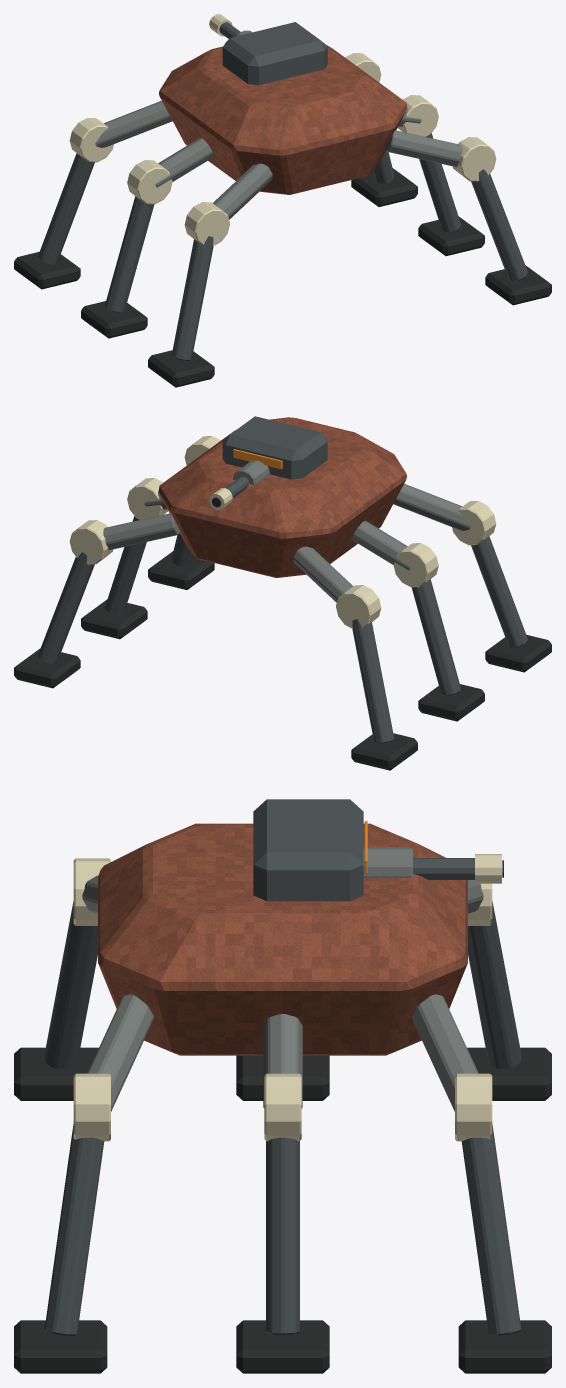
3 views of the same model, one above another, from view 1: azimuth 30°, elevation 25°; view 2: azimuth 150°, elevation 25°; view 3: azimuth 270°, elevation 25° (orthographic). The views are drawn at different scales.
Parts seen in each view (by area): view 1: ST2-E04_Mesh, Knee_Mesh, Knee.001_Mesh, Knee.003_Mesh, Knee.002_Mesh, TurretYaw_Mesh, Knee.004_Mesh, Knee.005_Mesh, Hip_R0_Mesh, Hip_L2_Mesh, Hip_L0_Mesh, Hip_L1_Mesh (+1 smaller); view 2: ST2-E04_Mesh, Knee.002_Mesh, Knee.001_Mesh, Knee.005_Mesh, Knee_Mesh, TurretYaw_Mesh, Knee.004_Mesh, Knee.003_Mesh, Hip_R2_Mesh, Hip_L0_Mesh, Hip_L2_Mesh, Hip_L1_Mesh (+1 smaller); view 3: ST2-E04_Mesh, Knee.003_Mesh, Knee.005_Mesh, Knee.004_Mesh, TurretYaw_Mesh, Knee_Mesh, Knee.002_Mesh, BarrelRecoil_Mesh, Hip_R0_Mesh, Hip_R2_Mesh, Knee.001_Mesh, Hip_R1_Mesh.
Boxes of the visible parts, x1,y1,x2,y2 form: ST2-E04_Mesh: (159, 45, 406, 194); Knee_Mesh: (148, 202, 229, 387); Knee.001_Mesh: (81, 160, 172, 338); Knee.003_Mesh: (452, 137, 551, 305); Knee.002_Mesh: (14, 118, 113, 289); TurretYaw_Mesh: (222, 22, 327, 85); Knee.004_Mesh: (397, 95, 484, 256); Knee.005_Mesh: (345, 53, 417, 206); Hip_R0_Mesh: (385, 130, 462, 166); Hip_L2_Mesh: (95, 100, 172, 147); Hip_L0_Mesh: (212, 163, 272, 219); Hip_L1_Mesh: (155, 138, 213, 187); ST2-E04_Mesh: (159, 417, 406, 577); Knee.002_Mesh: (336, 585, 417, 770); Knee.001_Mesh: (393, 543, 484, 721); Knee.005_Mesh: (14, 520, 113, 688); Knee_Mesh: (452, 501, 551, 672); TurretYaw_Mesh: (222, 416, 327, 479); Knee.004_Mesh: (81, 478, 168, 639); Knee.003_Mesh: (148, 436, 220, 589); Hip_R2_Mesh: (103, 513, 180, 549); Hip_L0_Mesh: (393, 483, 470, 530); Hip_L2_Mesh: (293, 546, 353, 602); Hip_L1_Mesh: (352, 521, 410, 570); ST2-E04_Mesh: (98, 823, 467, 1055); Knee.003_Mesh: (14, 1073, 110, 1373); Knee.005_Mesh: (455, 1073, 551, 1373); Knee.004_Mesh: (236, 1073, 329, 1373); TurretYaw_Mesh: (253, 799, 367, 901); Knee_Mesh: (14, 858, 110, 1100); Knee.002_Mesh: (467, 883, 551, 1100); BarrelRecoil_Mesh: (363, 847, 503, 883); Hip_R0_Mesh: (87, 994, 153, 1111); Hip_R2_Mesh: (412, 994, 478, 1111); Knee.001_Mesh: (236, 1055, 329, 1100); Hip_R1_Mesh: (263, 1014, 302, 1108).
Size of the model in its own units: 4.28 by 2.58 by 3.17.
